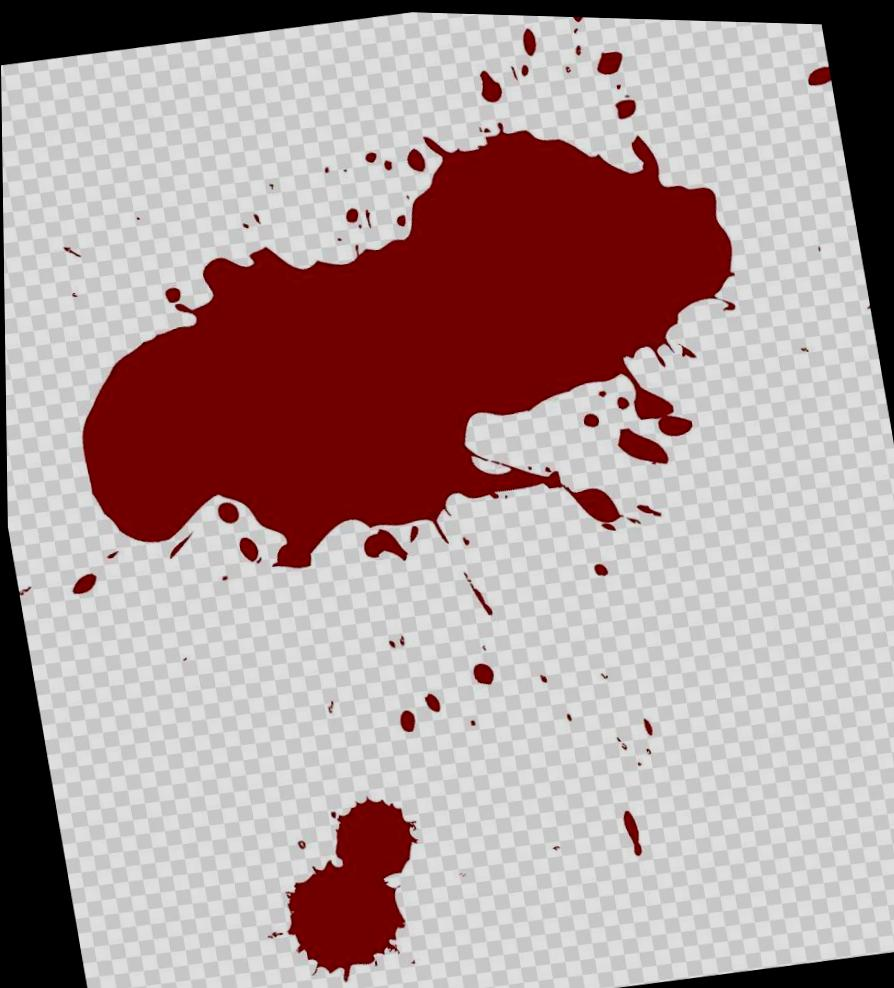Fire: (80, 118, 734, 566), (282, 792, 415, 980)
